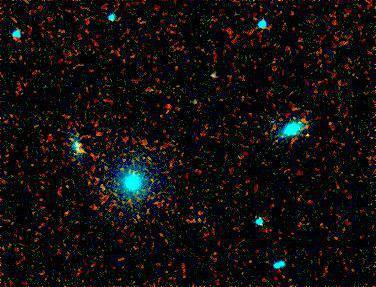star: (69, 138, 99, 168)
